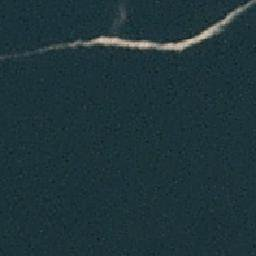debris: (71, 35, 173, 56), (173, 26, 209, 51), (209, 11, 243, 37), (1, 48, 42, 58), (42, 42, 71, 52), (232, 1, 256, 12)
